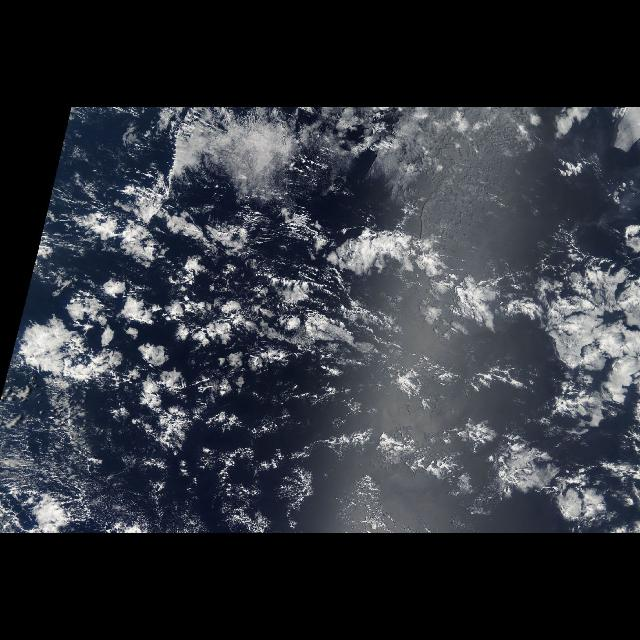Flower: (10, 192, 380, 450), (543, 226, 639, 432)
Gravel: (0, 362, 168, 532)
